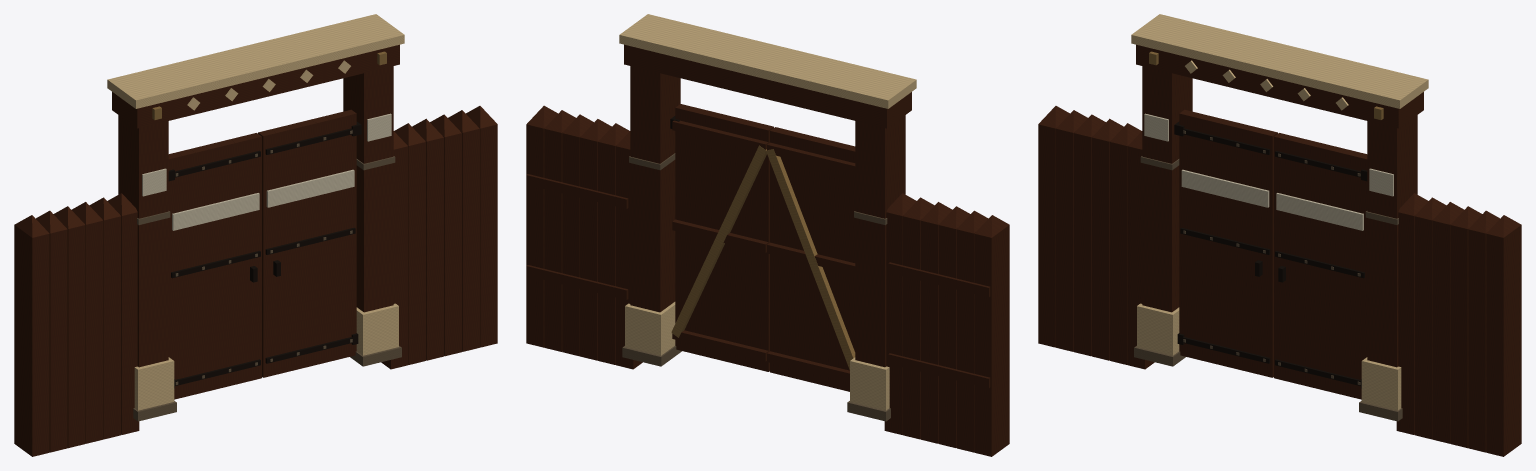
Rendered from Berber_PalisadeGate_Age3.fbx.
3 views of the same model, side by side, from view 1: azimuth 30°, elevation 25°; view 2: azimuth 150°, elevation 25°; view 3: azimuth 330°, elevation 25° (orthographic).
Parts seen in each view (by area): view 1: lintel_earth_weather_cap, right_palm_gatepost, left_palm_gatepost, left_palisade_stake_5, mortised_palm_lintel, left_palisade_stake_3, left_palisade_stake_2, left_palisade_stake_1, left_palisade_stake_4, right_palisade_stake_3, right_palisade_stake_1, right_palisade_stake_2 (+32 smaller); view 2: right_palm_gatepost, lintel_earth_weather_cap, left_palm_gatepost, left_palisade_stake_5, mortised_palm_lintel, right_palisade_stake_5, left_palisade_stake_1, left_palisade_stake_2, left_palisade_stake_3, right_palisade_stake_4, left_palisade_stake_4, right_palisade_stake_3 (+34 smaller); view 3: lintel_earth_weather_cap, left_palm_gatepost, right_palm_gatepost, right_palisade_stake_5, mortised_palm_lintel, right_palisade_stake_3, right_palisade_stake_2, right_palisade_stake_1, right_palisade_stake_4, left_palisade_stake_3, left_palisade_stake_1, left_palisade_stake_2 (+32 smaller).
Part boxes in pixels (left/top/right/bottom): lintel_earth_weather_cap: left=107, top=14, right=404, bottom=108; right_palm_gatepost: left=343, top=66, right=393, bottom=312; left_palm_gatepost: left=118, top=115, right=168, bottom=367; left_palisade_stake_5: left=14, top=215, right=49, bottom=456; mortised_palm_lintel: left=112, top=44, right=399, bottom=128; left_palisade_stake_3: left=53, top=206, right=85, bottom=448; left_palisade_stake_2: left=71, top=202, right=103, bottom=443; left_palisade_stake_1: left=89, top=197, right=121, bottom=439; left_palisade_stake_4: left=35, top=210, right=67, bottom=452; right_palisade_stake_3: left=430, top=114, right=461, bottom=356; right_palisade_stake_1: left=394, top=123, right=425, bottom=364; right_palisade_stake_2: left=412, top=118, right=443, bottom=360; right_palm_gatepost: left=630, top=66, right=680, bottom=312; lintel_earth_weather_cap: left=619, top=14, right=916, bottom=108; left_palm_gatepost: left=855, top=115, right=905, bottom=367; left_palisade_stake_5: left=974, top=215, right=1009, bottom=456; mortised_palm_lintel: left=624, top=44, right=911, bottom=128; right_palisade_stake_5: left=526, top=105, right=558, bottom=347; left_palisade_stake_1: left=902, top=197, right=934, bottom=439; left_palisade_stake_2: left=920, top=202, right=952, bottom=443; left_palisade_stake_3: left=938, top=206, right=970, bottom=447; right_palisade_stake_4: left=544, top=110, right=575, bottom=351; left_palisade_stake_4: left=956, top=210, right=988, bottom=452; right_palisade_stake_3: left=562, top=114, right=593, bottom=356; lintel_earth_weather_cap: left=1131, top=14, right=1428, bottom=108; left_palm_gatepost: left=1142, top=66, right=1192, bottom=312; right_palm_gatepost: left=1367, top=115, right=1417, bottom=367; right_palisade_stake_5: left=1486, top=215, right=1521, bottom=456; mortised_palm_lintel: left=1136, top=44, right=1423, bottom=128; right_palisade_stake_3: left=1450, top=206, right=1482, bottom=448; right_palisade_stake_2: left=1432, top=202, right=1464, bottom=443; right_palisade_stake_1: left=1414, top=197, right=1446, bottom=439; right_palisade_stake_4: left=1468, top=210, right=1500, bottom=452; left_palisade_stake_3: left=1074, top=114, right=1105, bottom=356; left_palisade_stake_1: left=1110, top=123, right=1141, bottom=364; left_palisade_stake_2: left=1092, top=118, right=1123, bottom=360.
Size of the model in its own units: 1018 by 703 by 110.
Materials: 6 (6 with a texture image).
